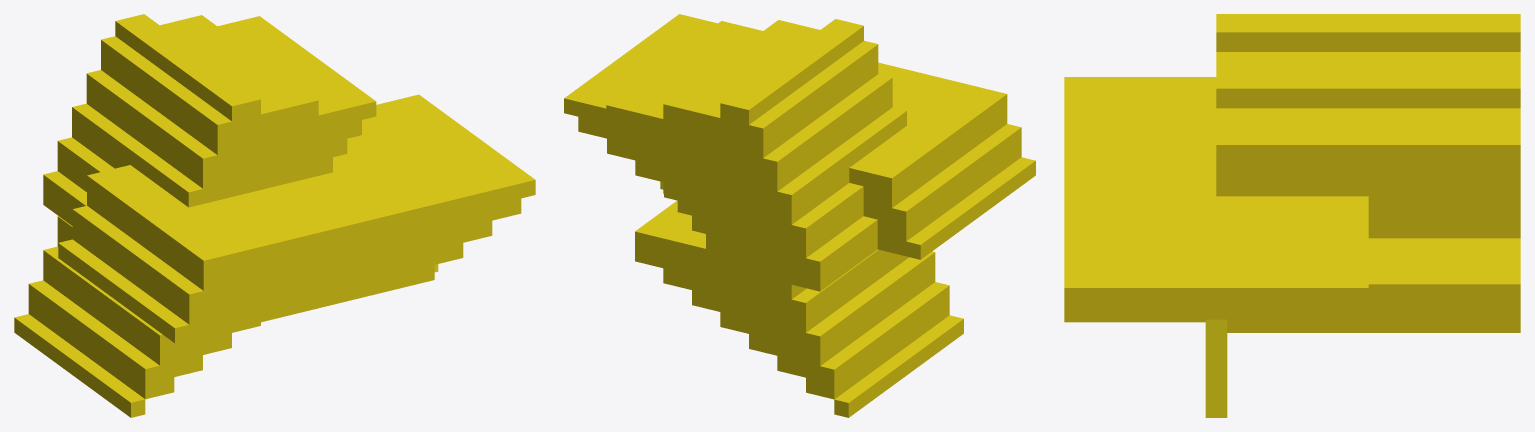
The model's file is lightningbolt.glb.
The picture shows the model from 3 angles, left to right: view 1: azimuth 30°, elevation 25°; view 2: azimuth 150°, elevation 25°; view 3: azimuth 270°, elevation 25°; orthographic projection. The views are drawn at different scales.
Parts seen in each view (by area): view 1: l2, l3, l1; view 2: l3, l1, l2; view 3: l3, l2, l1, monture.
Boxes of the visible parts, x1,y1,x2,y2 form: l2: (58,94,535,343); l3: (43,14,376,225); l1: (14,216,260,417); l3: (606,19,906,291); l1: (635,200,963,417); l2: (564,14,1035,259); l3: (1216,14,1520,238); l2: (1064,77,1368,322); l1: (1227,238,1520,332); monture: (1205,318,1227,417).
Bounding box in the file's own units: 25 × 19 × 21.
5 materials, 5 textured.
